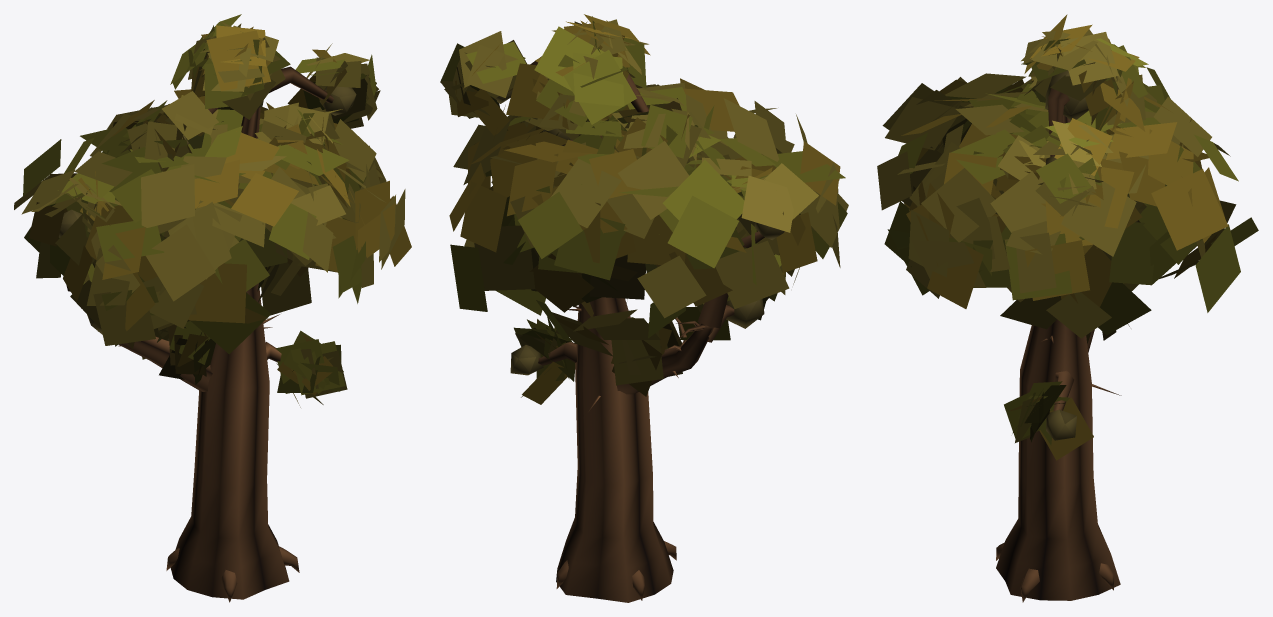
The model's file is tree-03.glb.
3 views of the same model, side by side, from view 1: azimuth 30°, elevation 25°; view 2: azimuth 150°, elevation 25°; view 3: azimuth 270°, elevation 25° (orthographic). The views are drawn at different scales.
Parts seen in each view (by area): view 1: tree-03; view 2: tree-03; view 3: tree-03.
Part boxes in pixels (x1,y1,x2,y2): tree-03: [14, 14, 411, 602]; tree-03: [440, 14, 848, 602]; tree-03: [877, 14, 1258, 602].
Bounding box in the file's own units: 3.99 × 5.84 × 3.64.
